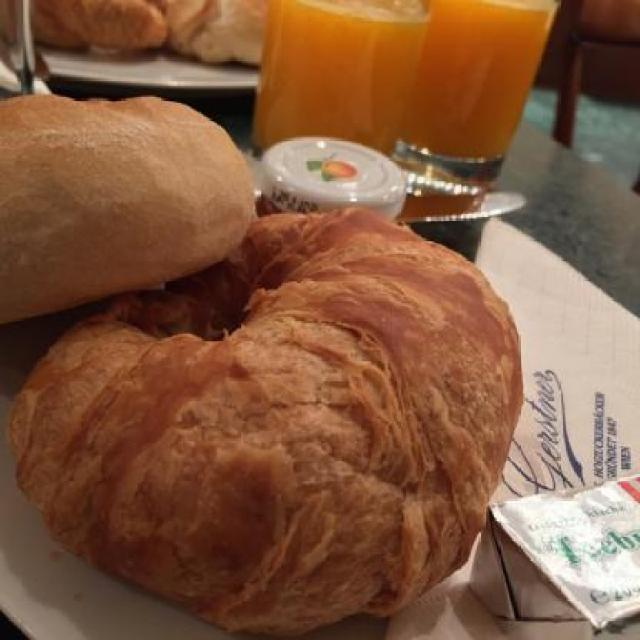Croissant: (25, 227, 512, 640)
